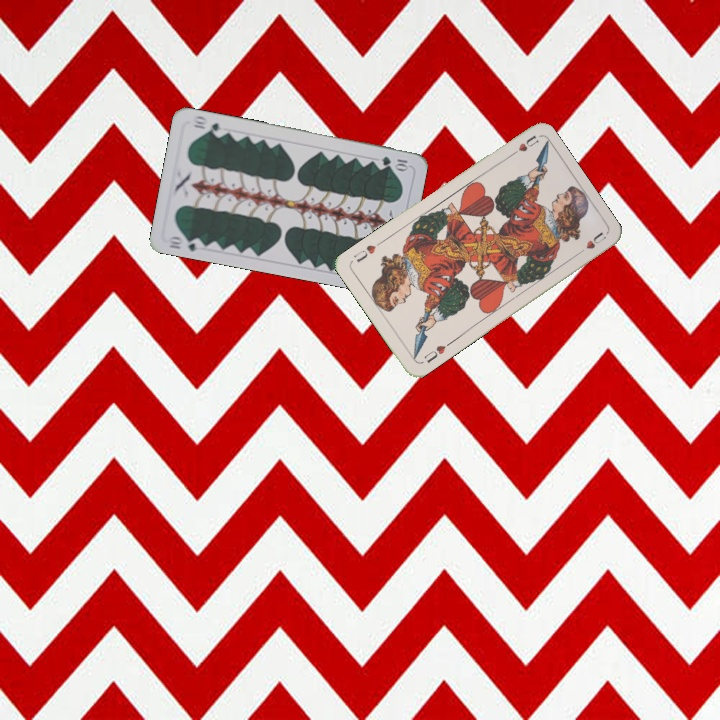G10: (164, 232, 205, 254), (377, 152, 412, 172)
HU: (504, 131, 542, 160), (420, 341, 448, 366)
